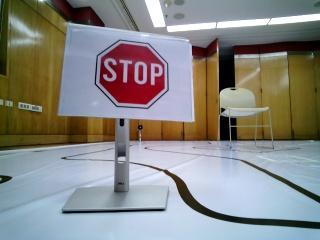stop: (70, 30, 183, 117)
